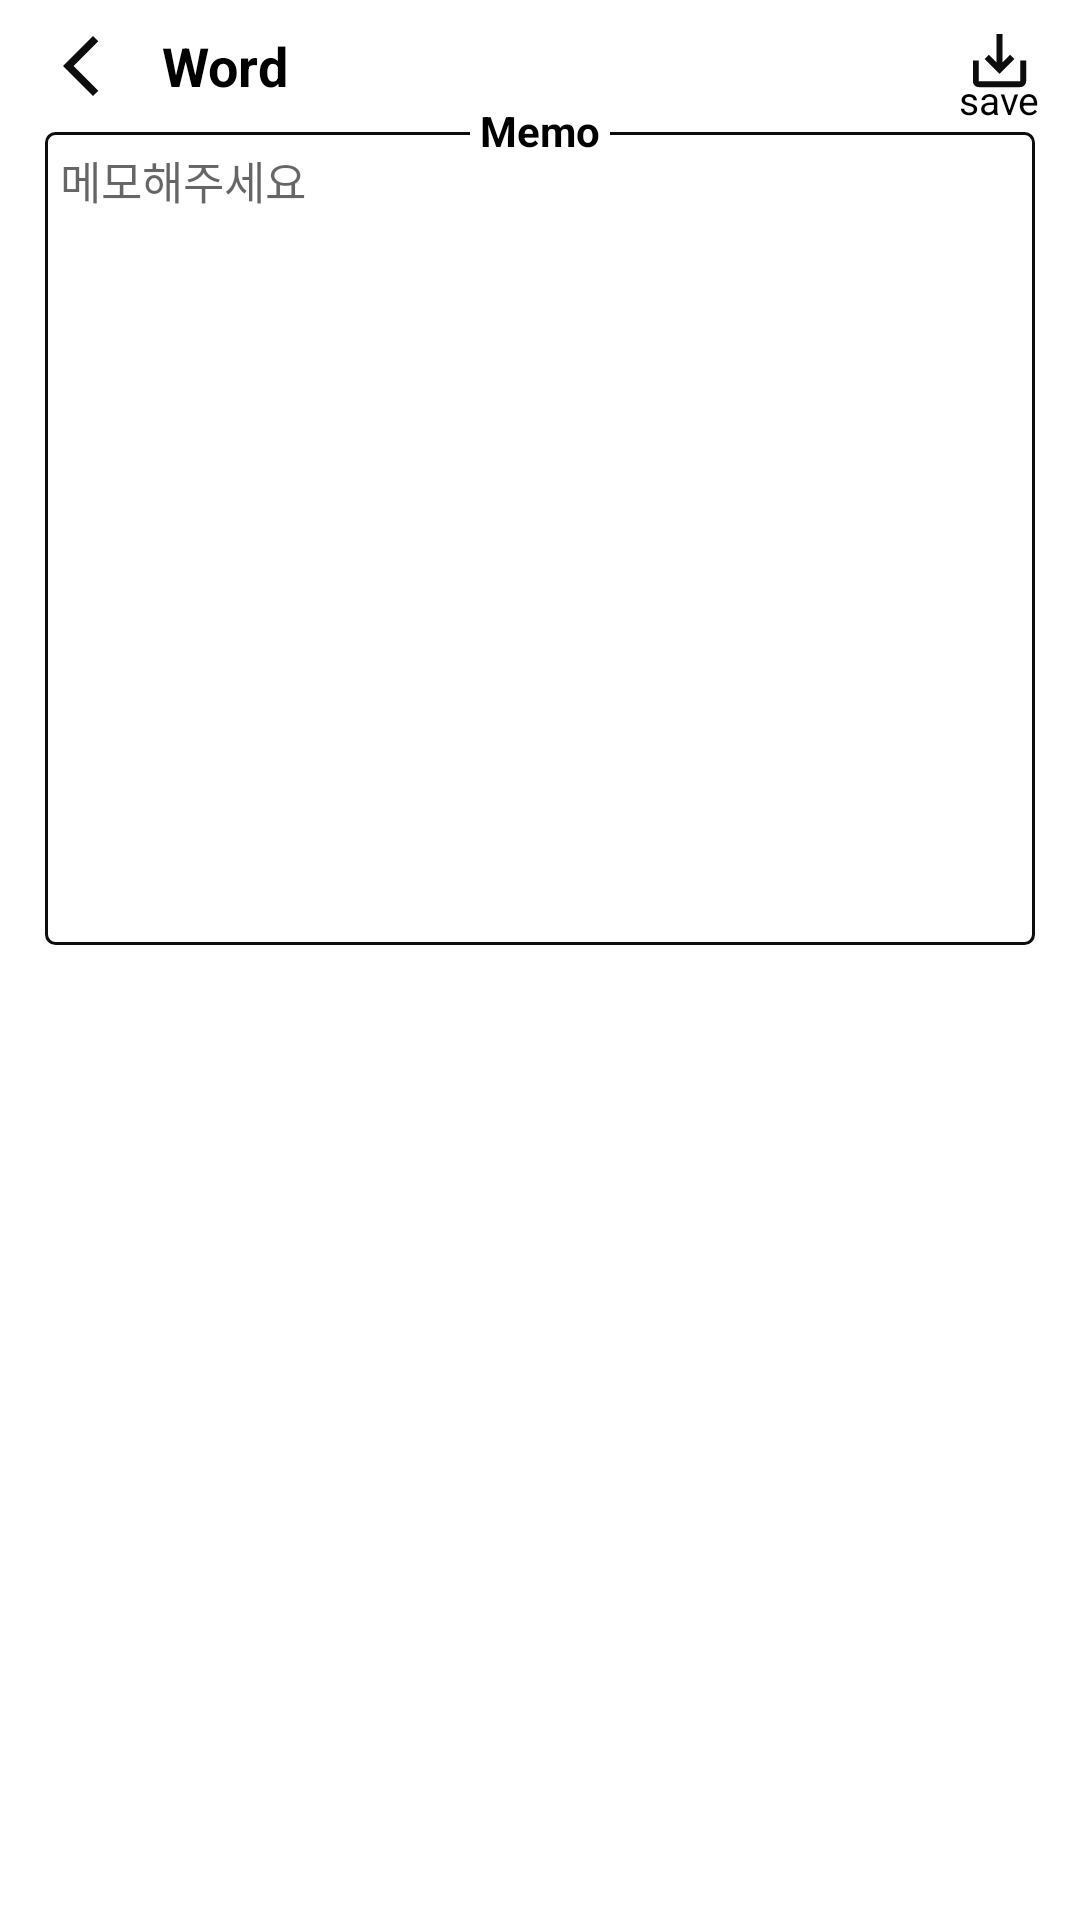

Icons on this 1080px×1920px Android screen, each with its box as bbox=[x1, y1, x2, y2]:
arrow back: bbox=[63, 36, 98, 96]
